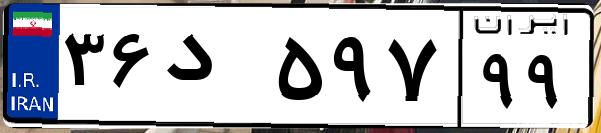3: (57, 26, 110, 100)
5: (270, 28, 330, 110)
6: (110, 28, 158, 98)
7: (385, 28, 445, 110)
9: (330, 28, 385, 110), (475, 38, 525, 113), (525, 38, 570, 115)
د: (158, 20, 270, 120)
